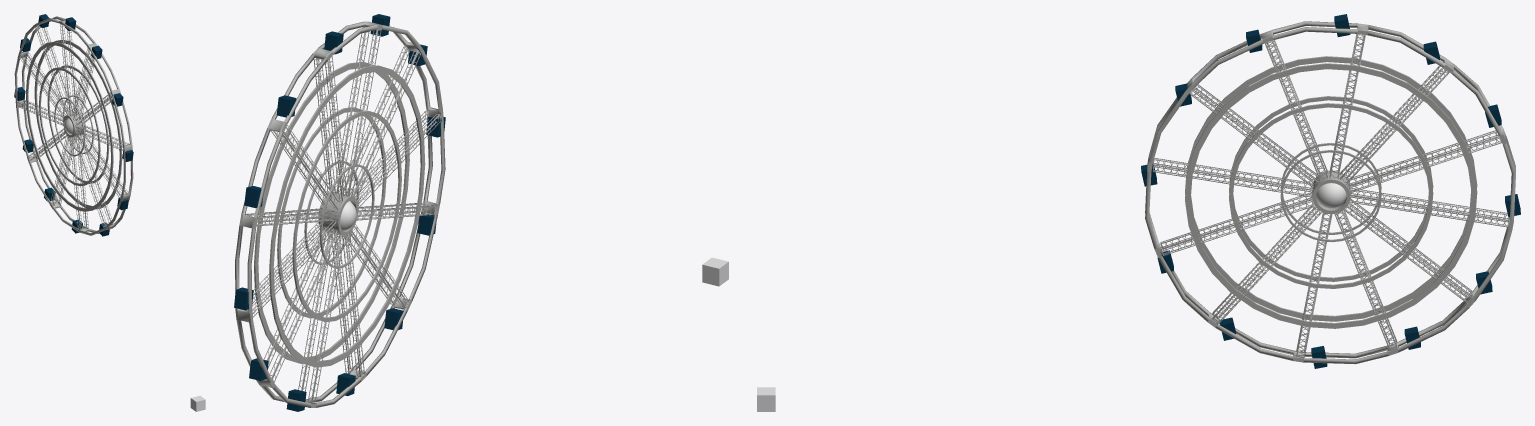
The model's file is cuboAnimado.glb.
3 renders of one model, left to right at view 1: azimuth 30°, elevation 25°; view 2: azimuth 150°, elevation 25°; view 3: azimuth 270°, elevation 25°, orthographic. The views are drawn at different scales.
Parts seen in each view (by area): view 1: Circle.001, Circle.007, Cube.066, MaestroEdificioIzquierda; view 2: Circle.001, Circle.007, Cube.066, MaestroEdificioIzquierda; view 3: Circle.001, Circle.007, Cube.066.
Boxes of the visible parts, bbox=[...] form: Circle.001: bbox=[14, 16, 133, 235]; Circle.007: bbox=[26, 39, 122, 211]; Cube.066: bbox=[14, 14, 133, 236]; MaestroEdificioIzquierda: bbox=[190, 395, 205, 411]; Circle.001: bbox=[235, 21, 445, 407]; Circle.007: bbox=[254, 61, 425, 367]; Cube.066: bbox=[234, 14, 445, 411]; MaestroEdificioIzquierda: bbox=[702, 257, 728, 286]; Circle.001: bbox=[1145, 21, 1515, 364]; Circle.007: bbox=[1185, 56, 1477, 328]; Cube.066: bbox=[1141, 14, 1520, 368].
Size of the model in its own units: 14.73 by 62.67 by 102.
Materials: 2 (1 with a texture image).
